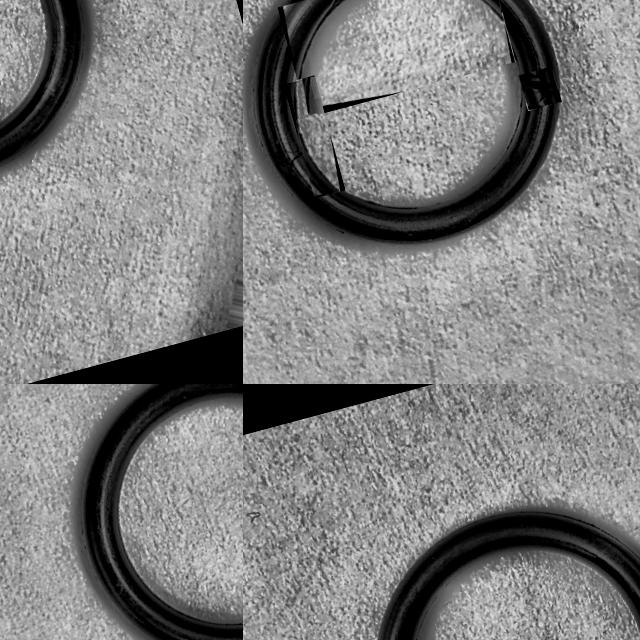切割缺陷: (524, 71, 558, 106), (277, 148, 305, 167)
裂纹: (294, 81, 339, 191), (299, 0, 347, 102), (357, 197, 420, 209), (481, 0, 504, 20)
